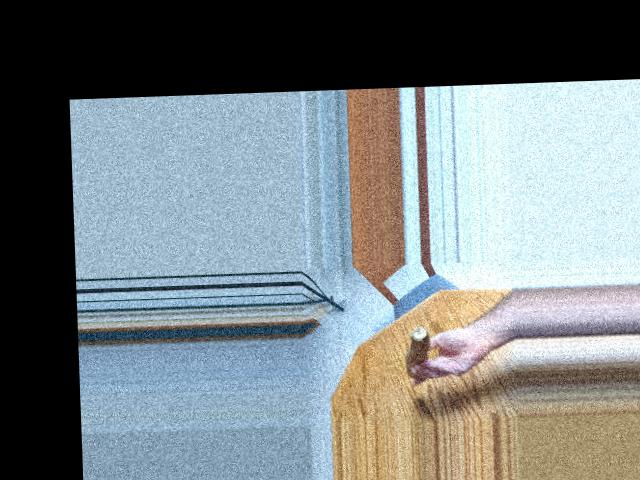sweet_potato: (401, 318, 444, 380)
